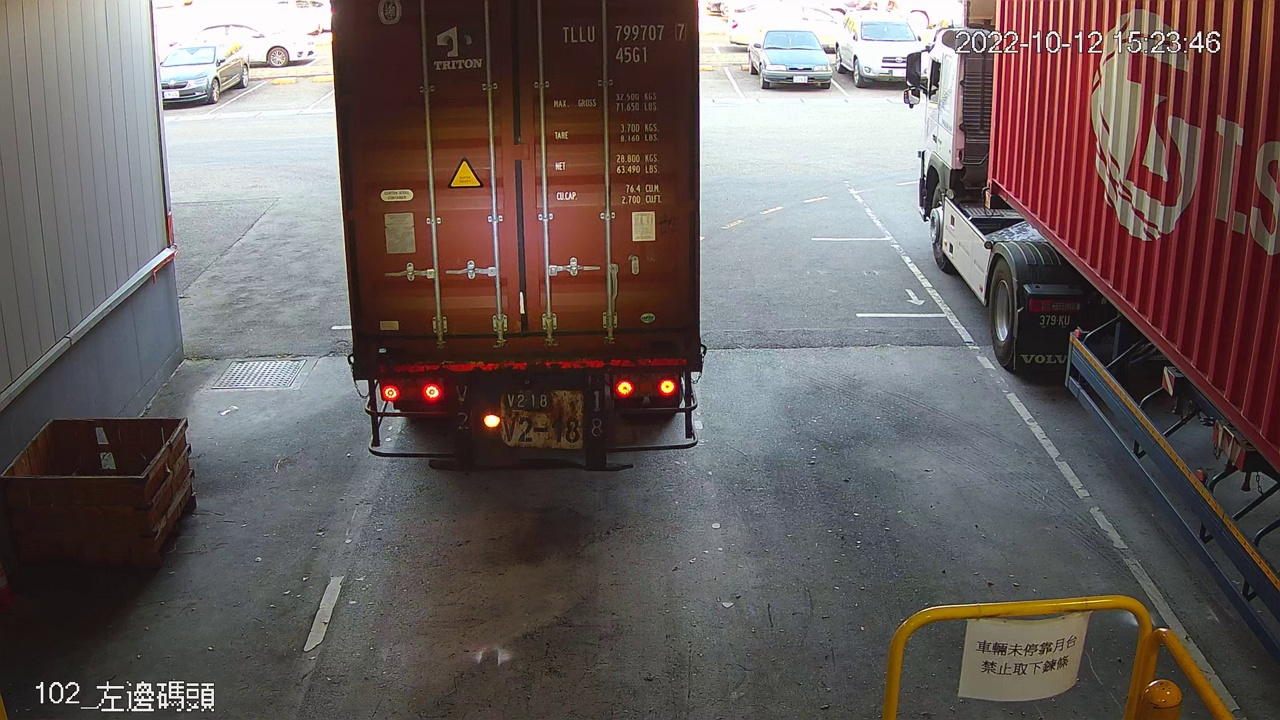container: (554, 18, 694, 69)
